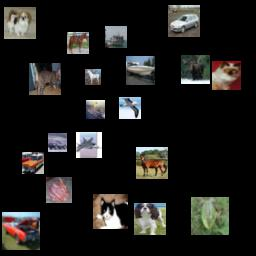airplane: (76, 132, 102, 158)
automobile: (2, 212, 40, 250), (168, 5, 200, 37), (22, 152, 44, 174), (48, 133, 67, 152)
bird: (119, 97, 141, 119)
cat: (93, 194, 128, 229), (29, 63, 61, 95), (212, 61, 241, 90)
deer: (181, 55, 210, 84), (46, 177, 72, 203)
dog: (4, 7, 36, 39), (134, 203, 166, 235)
frog: (191, 197, 229, 235)
ship: (126, 56, 155, 85), (105, 26, 127, 48), (86, 100, 105, 119)
